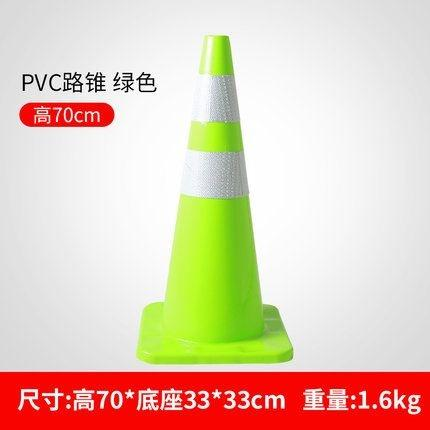cone_barrel: (150, 42, 276, 358)
